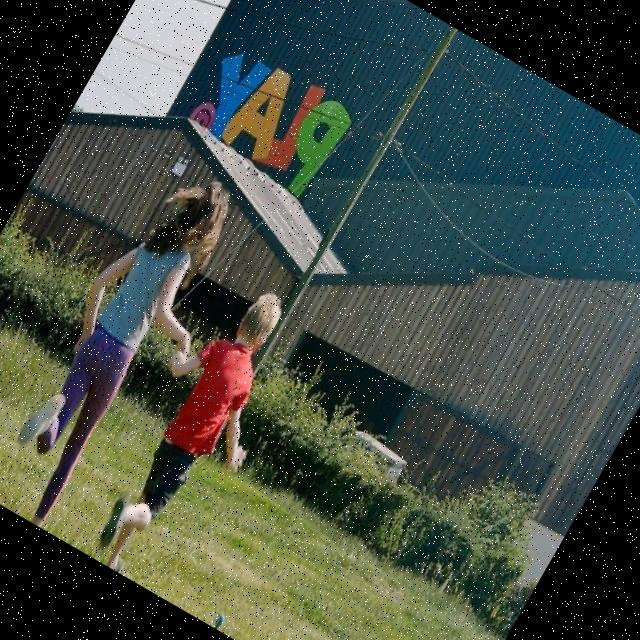Person: (0, 154, 269, 548), (67, 264, 325, 599)
